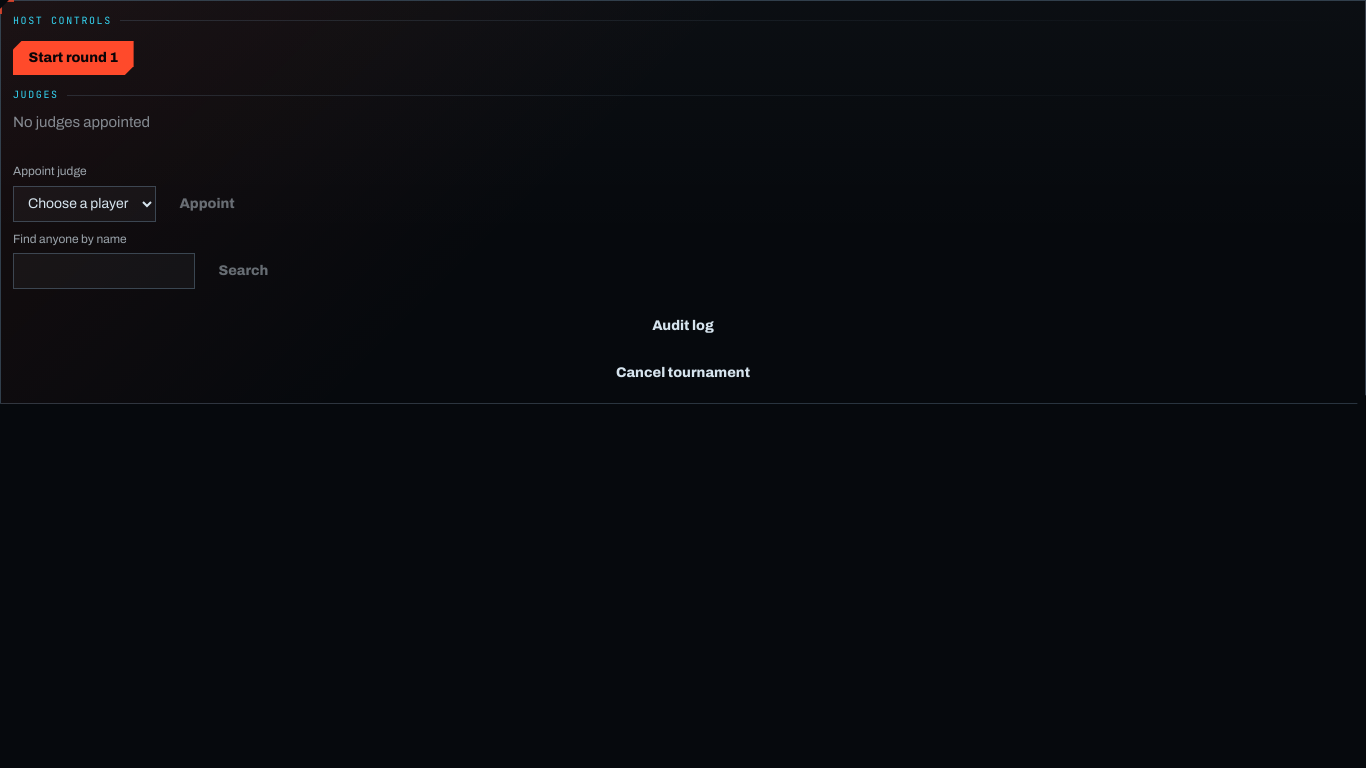
Test: danger and failures › a refused round start keeps the dialog open with the error
This screenshot has width=1366, height=768.
Click the button "Start round 1" at [73, 58], box [13, 40, 134, 75]
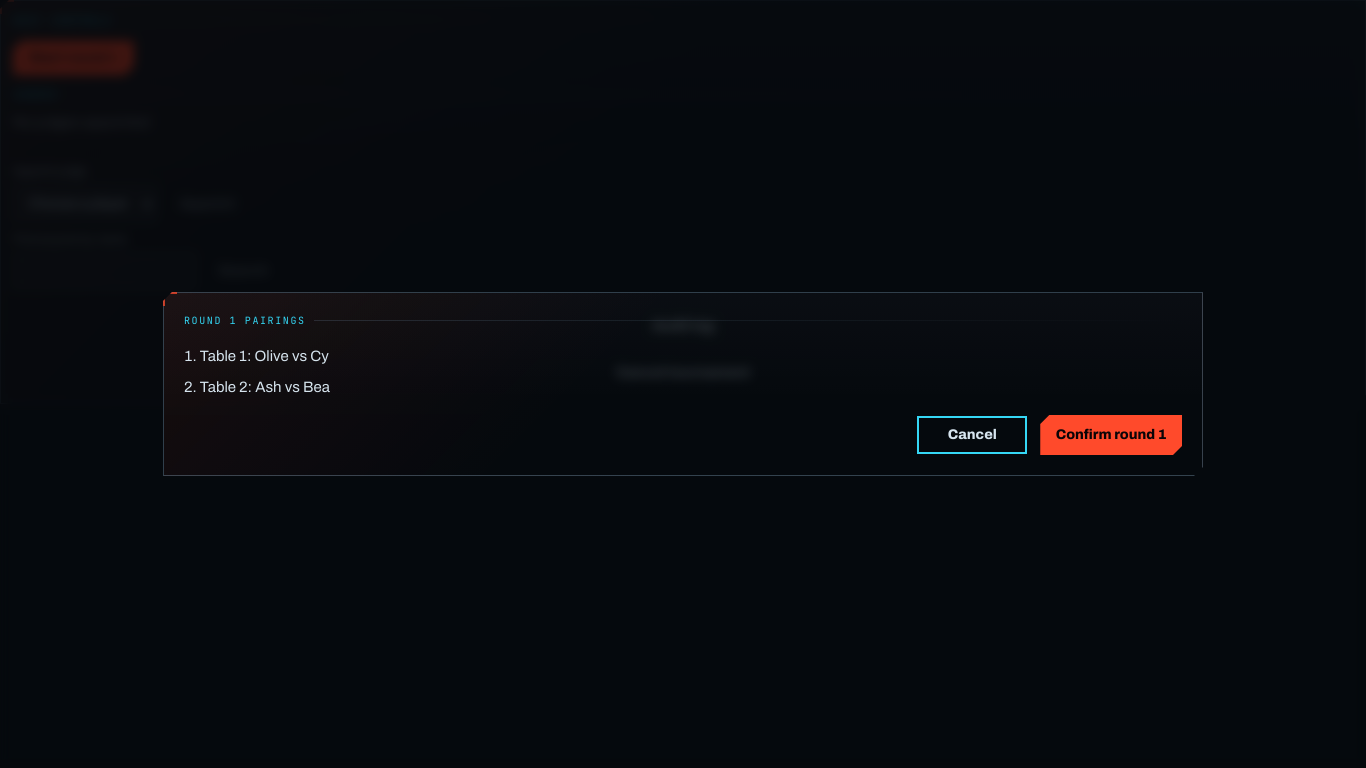
Click the button "Confirm round 1" at [1111, 435], box [1040, 415, 1182, 455]
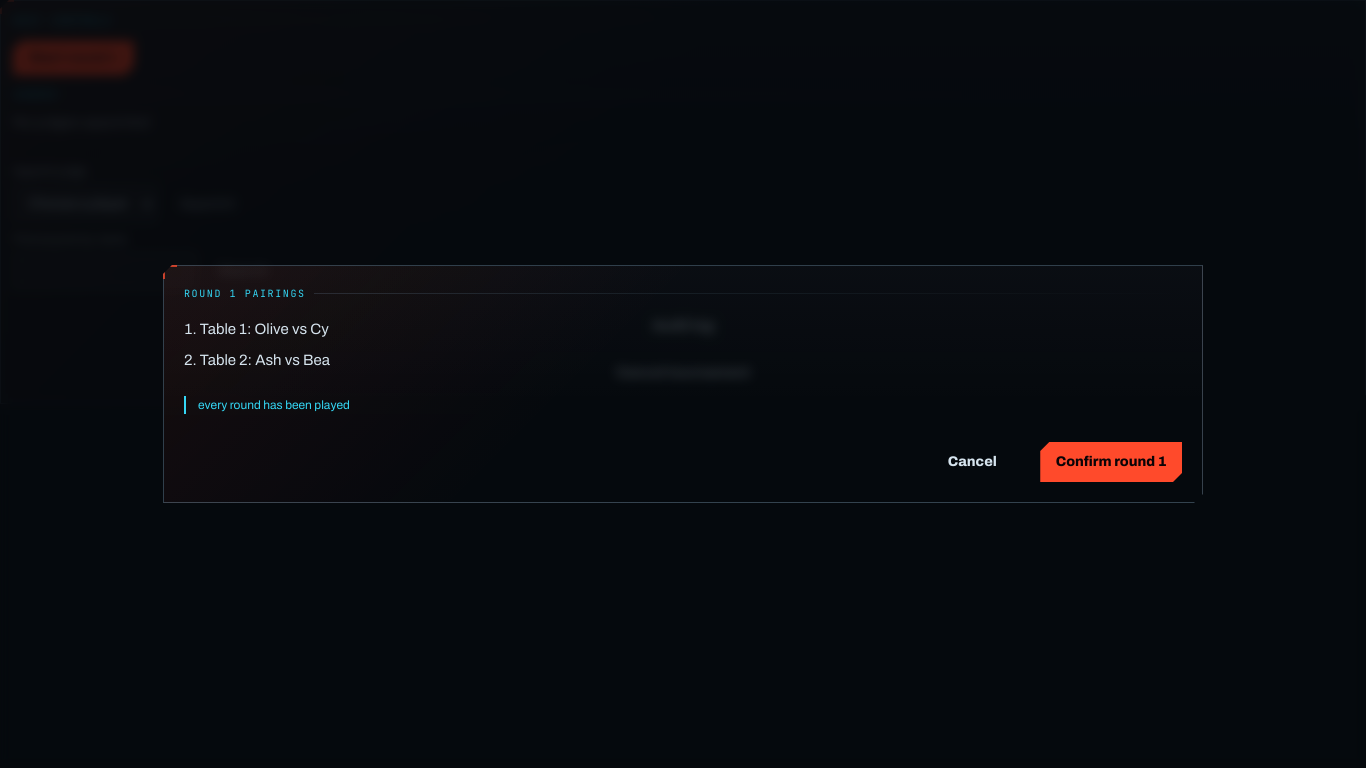
Result: the dialog is shown at [163, 265, 1203, 503]
Result: the message reads "every round has been played" at [198, 398, 350, 412]
